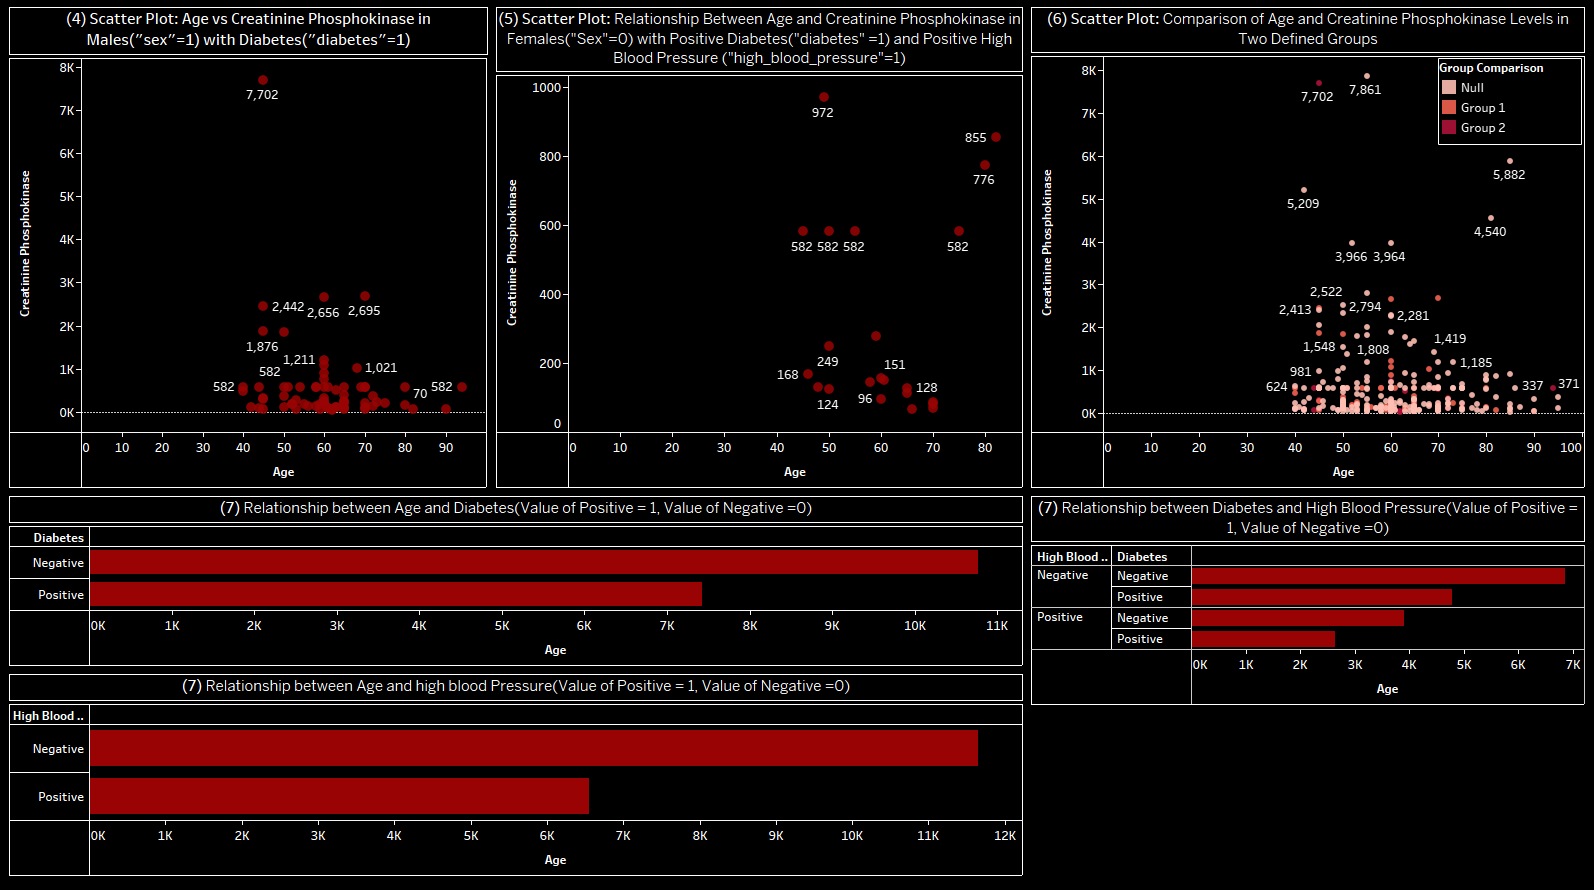

What the dashboard file says about the page in this screenshot:
{"tool":"tableau","page":{"name":"Dashboard 2","canvas":[1600,900],"ordinal":1},"visuals":[{"type":"worksheet","title":"Answer(4)","mark":"Automatic","rows":["creatinine_phosphokinase"],"cols":["age"],"box":[8,8,487,489]},{"type":"worksheet","title":"Answer(5)","mark":"Automatic","rows":["creatinine_phosphokinase"],"cols":["age"],"box":[495,8,535,489]},{"type":"worksheet","title":"Answer (6)","mark":"Automatic","rows":["creatinine_phosphokinase"],"cols":["age"],"box":[1030,8,562,489]},{"type":"legend","title":"Answer (6)","param":"[federated.03bfml20nce1pp190wowl1h8l4wc].[none:Calculation_966585093380464640:nk","box":[1441,63,144,87]},{"type":"worksheet","title":"Answer (7-A)","mark":"Bar","rows":["diabetes"],"cols":["age"],"box":[8,497,1022,178]},{"type":"worksheet","title":"Answer (7-C)","mark":"Bar","rows":["high_blood_pressure","diabetes"],"cols":["age"],"box":[1030,497,562,395]},{"type":"worksheet","title":"Answer (7-B)","mark":"Bar","rows":["high_blood_pressure"],"cols":["age"],"box":[8,675,1022,217]}]}

Visuals, with their boxes in screenshot pixels (x1, y1, x2, y2), scaled from the page's 1600x900 canvas onto the 1594x890 screenshot:
"Answer(4)" worksheet: <bbox>8, 8, 493, 491</bbox>
"Answer(5)" worksheet: <bbox>493, 8, 1026, 491</bbox>
"Answer (6)" worksheet: <bbox>1026, 8, 1586, 491</bbox>
"Answer (6)" legend: <bbox>1436, 62, 1579, 148</bbox>
"Answer (7-A)" worksheet (Bar marks): <bbox>8, 491, 1026, 668</bbox>
"Answer (7-C)" worksheet (Bar marks): <bbox>1026, 491, 1586, 882</bbox>
"Answer (7-B)" worksheet (Bar marks): <bbox>8, 668, 1026, 882</bbox>
